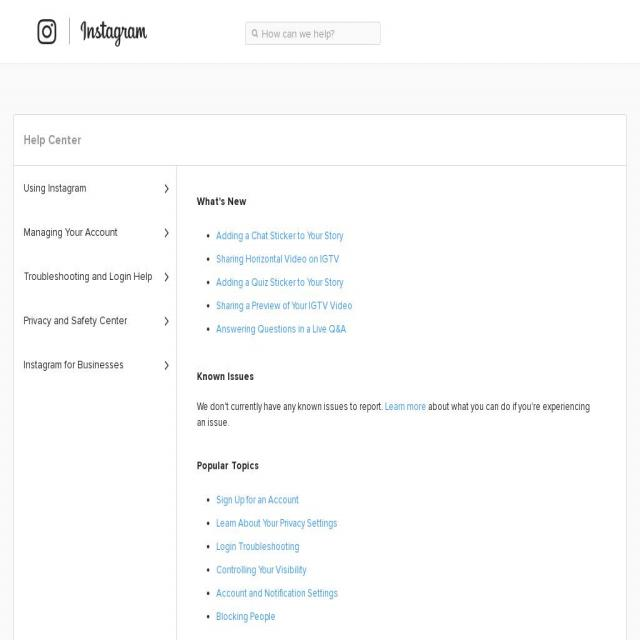button: (14, 342, 176, 387), (14, 166, 176, 210), (14, 210, 176, 254), (14, 254, 176, 298), (14, 298, 176, 342), (26, 7, 155, 55)
field: (246, 23, 380, 44)
